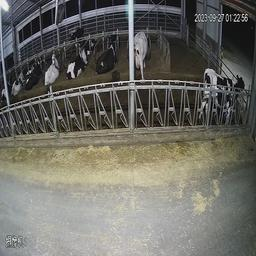cow: (195, 61, 247, 133), (133, 23, 154, 83), (92, 35, 121, 74), (63, 46, 90, 83), (40, 44, 60, 88), (23, 55, 41, 90), (7, 61, 23, 98), (70, 24, 85, 50)
